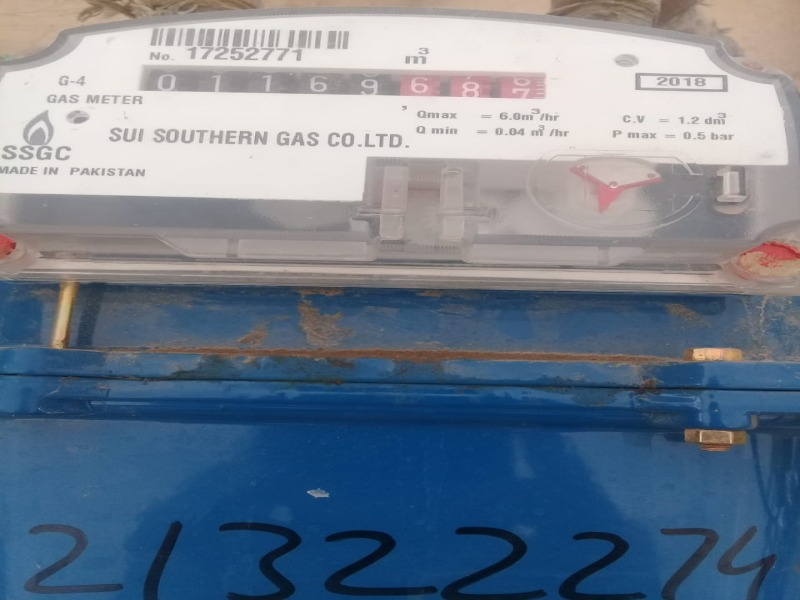ssgc: (135, 62, 547, 103)
